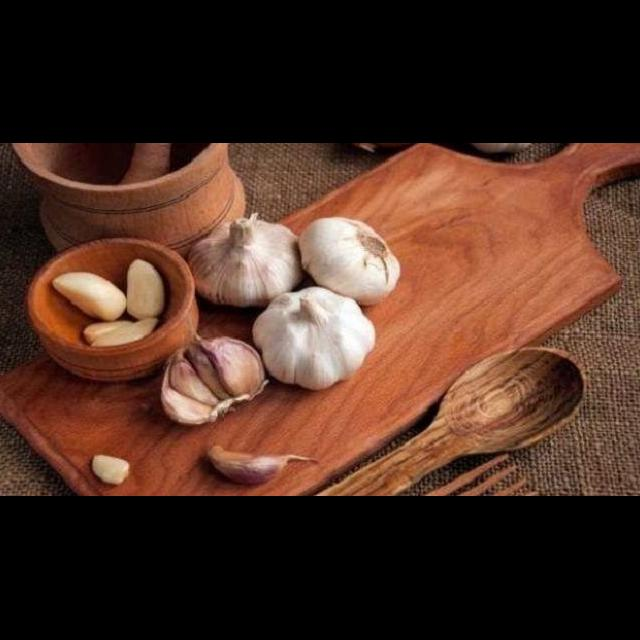garlic: (186, 215, 404, 391), (157, 338, 265, 425), (202, 439, 318, 488)
